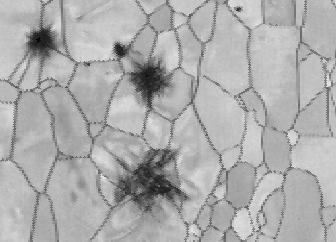good_void: (104, 144, 197, 215), (120, 51, 173, 108), (22, 21, 67, 57), (107, 41, 133, 65), (82, 59, 93, 69), (234, 5, 243, 12)
